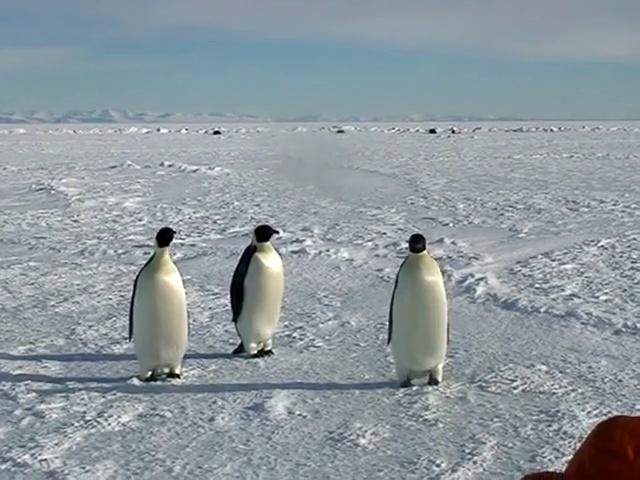animal: (389, 235, 449, 387)
